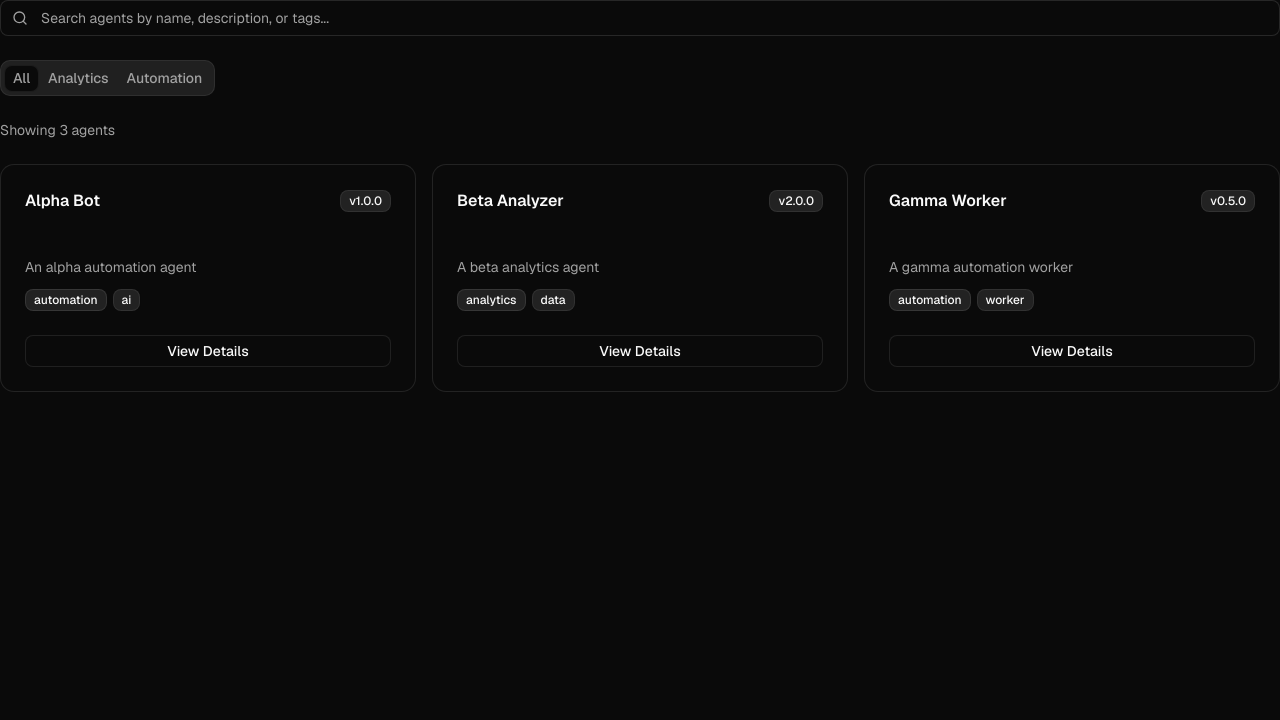
Scenario: RegistryContent › opens detail dialog when View Details is clicked
Click the button "View Details" below "An alpha automation agent": (208, 351) top-left (25, 335), bottom-right (391, 367)
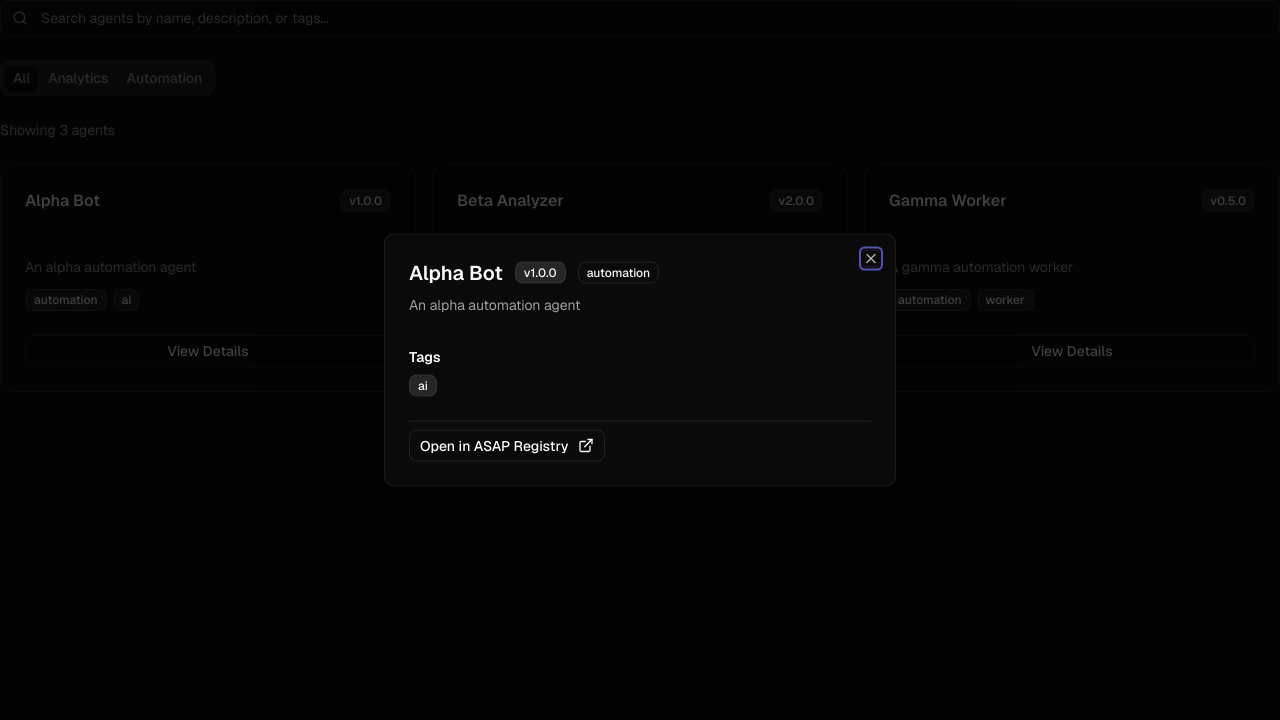
expect the dialog is shown: met, box top-left (384, 234), bottom-right (896, 486)
expect the dialog shows "Alpha Bot": met, box top-left (409, 260), bottom-right (503, 286)
expect the dialog shows "An alpha automation agent": met, box top-left (409, 296), bottom-right (580, 314)
